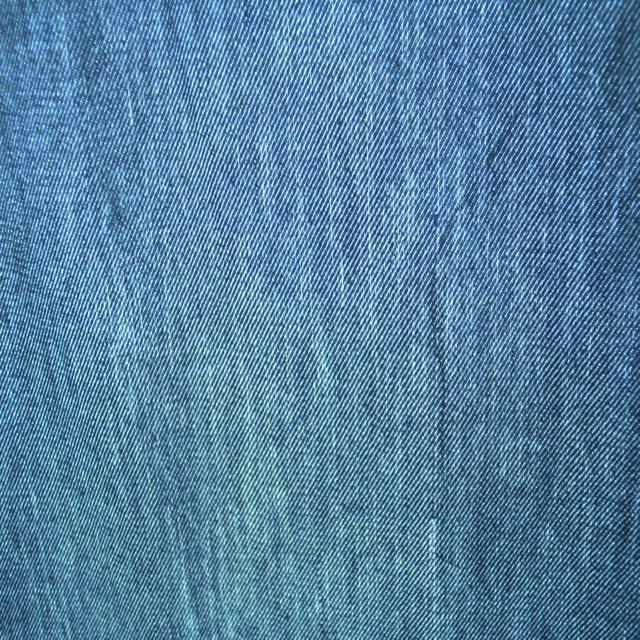defect: (426, 99, 531, 511)
